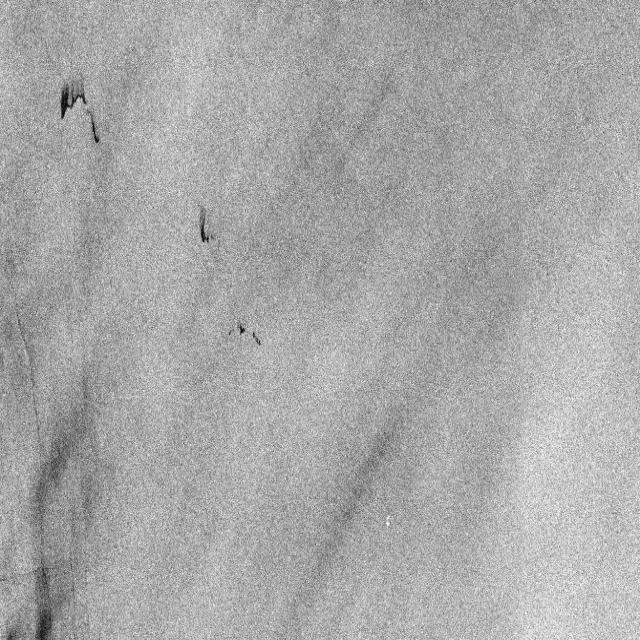look-alike: (7, 277, 96, 634)
oil-spill: (54, 74, 108, 150), (190, 196, 220, 256), (225, 317, 265, 353)
